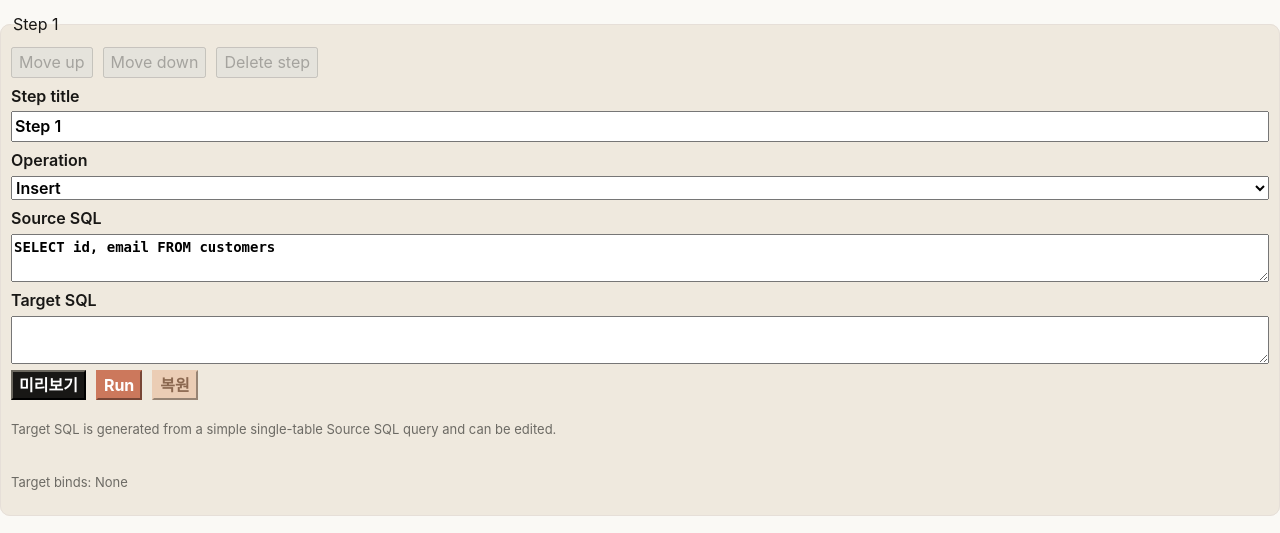
generates an upsert guide from the first Source SQL column
Step 1. Select "Upsert" in the dropdown named "Operation for step 1" → (640, 188), box [11, 176, 1269, 200]
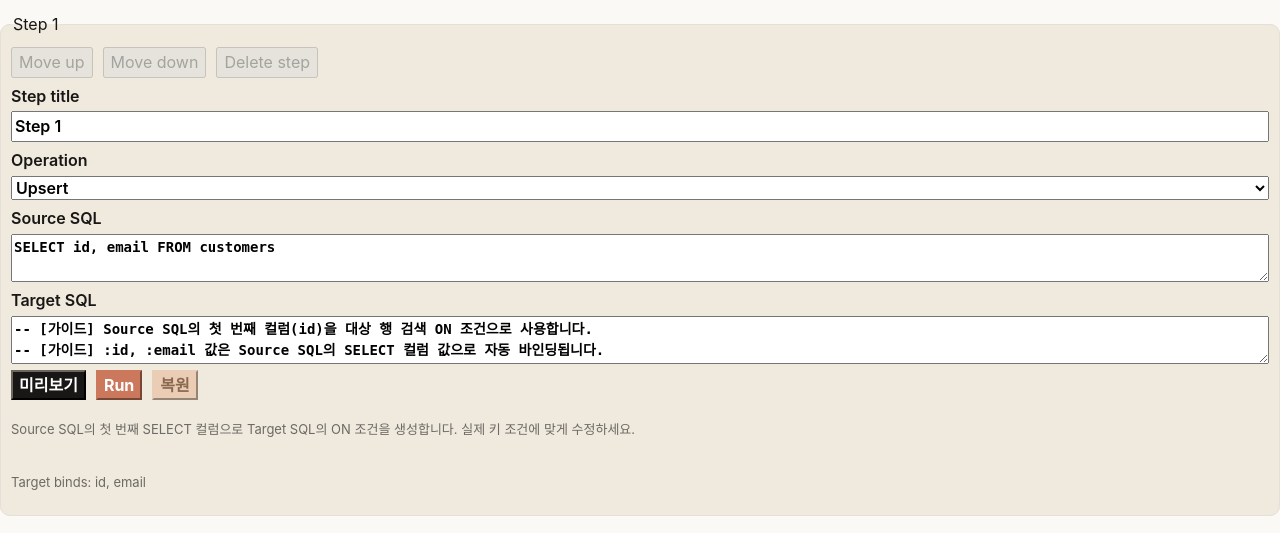
Expected: the text "Source SQL의 첫 번째 SELECT 컬럼으로 Target SQL의 ON 조건을 생성합니다. 실제 키 조건에 맞게 수정하세요." is shown, [11, 421, 635, 437]
